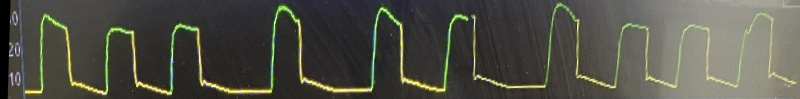normal_pressure: (27, 0, 796, 99)
